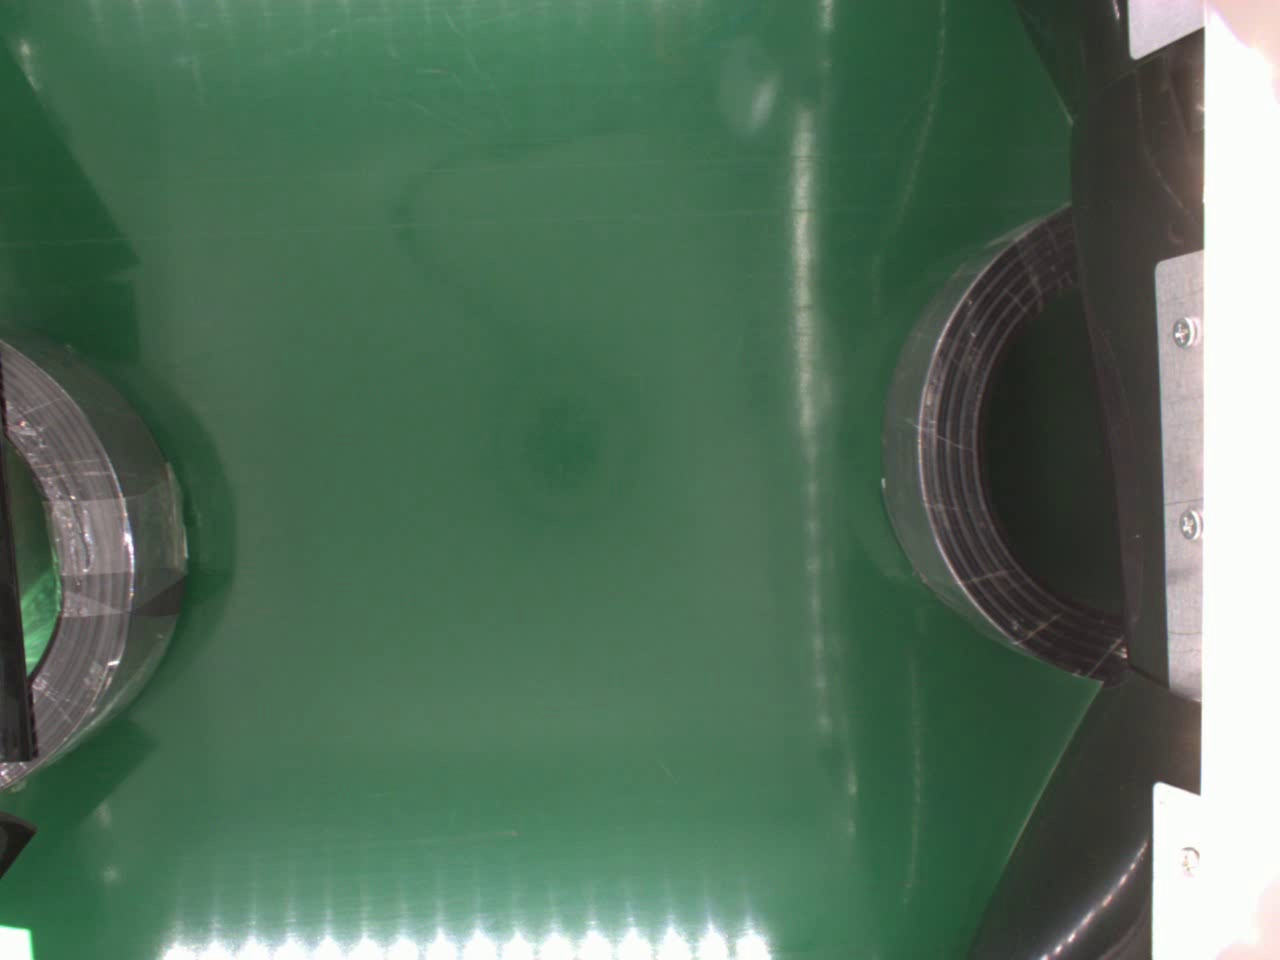black: (880, 198, 1125, 682), (2, 315, 195, 804)
